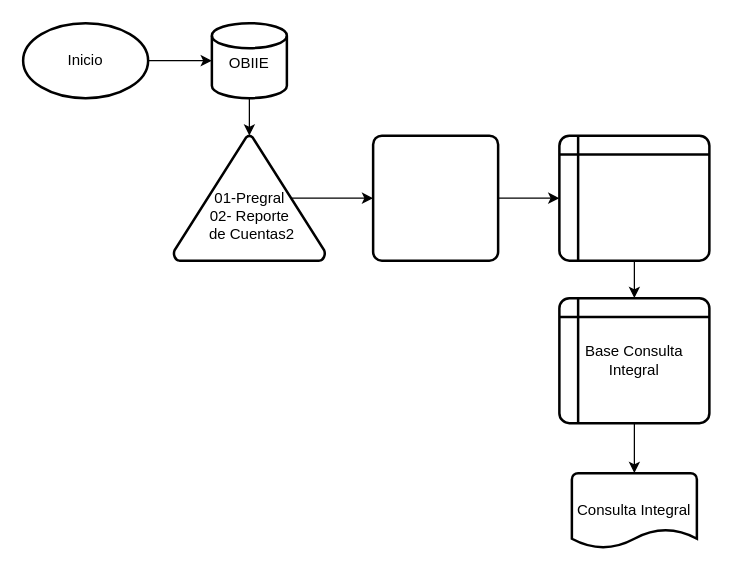
This 731x570 diagram has some shape labels left out. Here are the shapes that lost their labels. From the top down, the centre of each, then its label:
point (435, 197): Procesamiento de información de acuerdo a procedimiento establecido
point (634, 197): Saldos Activos Dashboard Saldos Pasivos Dashboard Archivo Relación al Negocio
